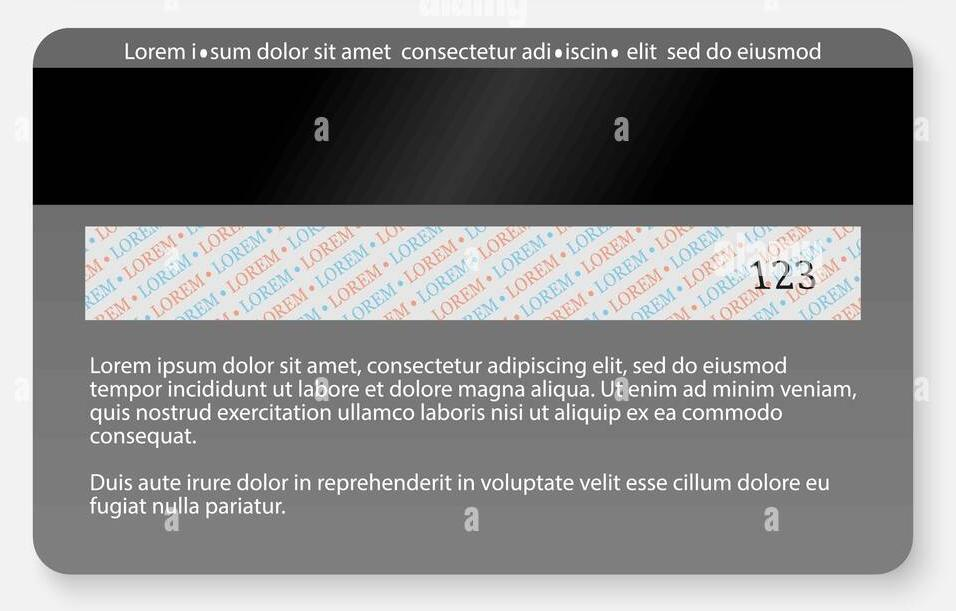payment_card: (30, 27, 912, 575)
